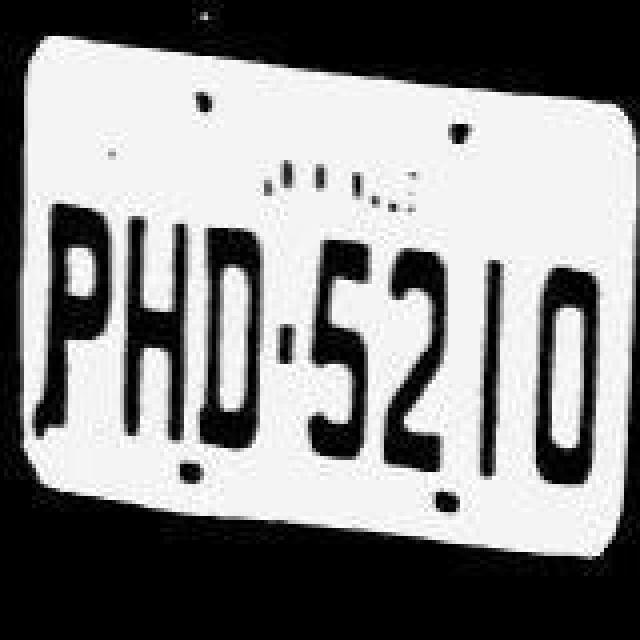1: (464, 254, 516, 506)
2: (376, 232, 460, 488)
5: (298, 224, 378, 480)
D: (196, 198, 272, 474)
H: (116, 190, 192, 466)
O: (524, 256, 608, 512)
P: (42, 184, 122, 456)
